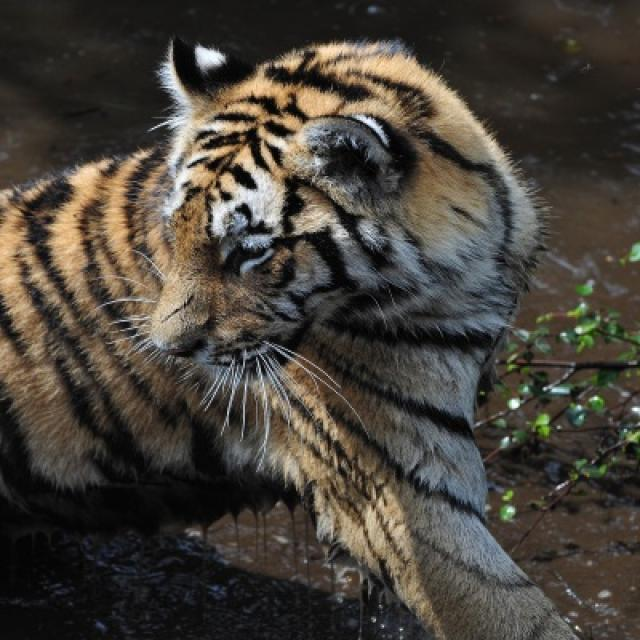Tiger: (0, 38, 571, 638)
